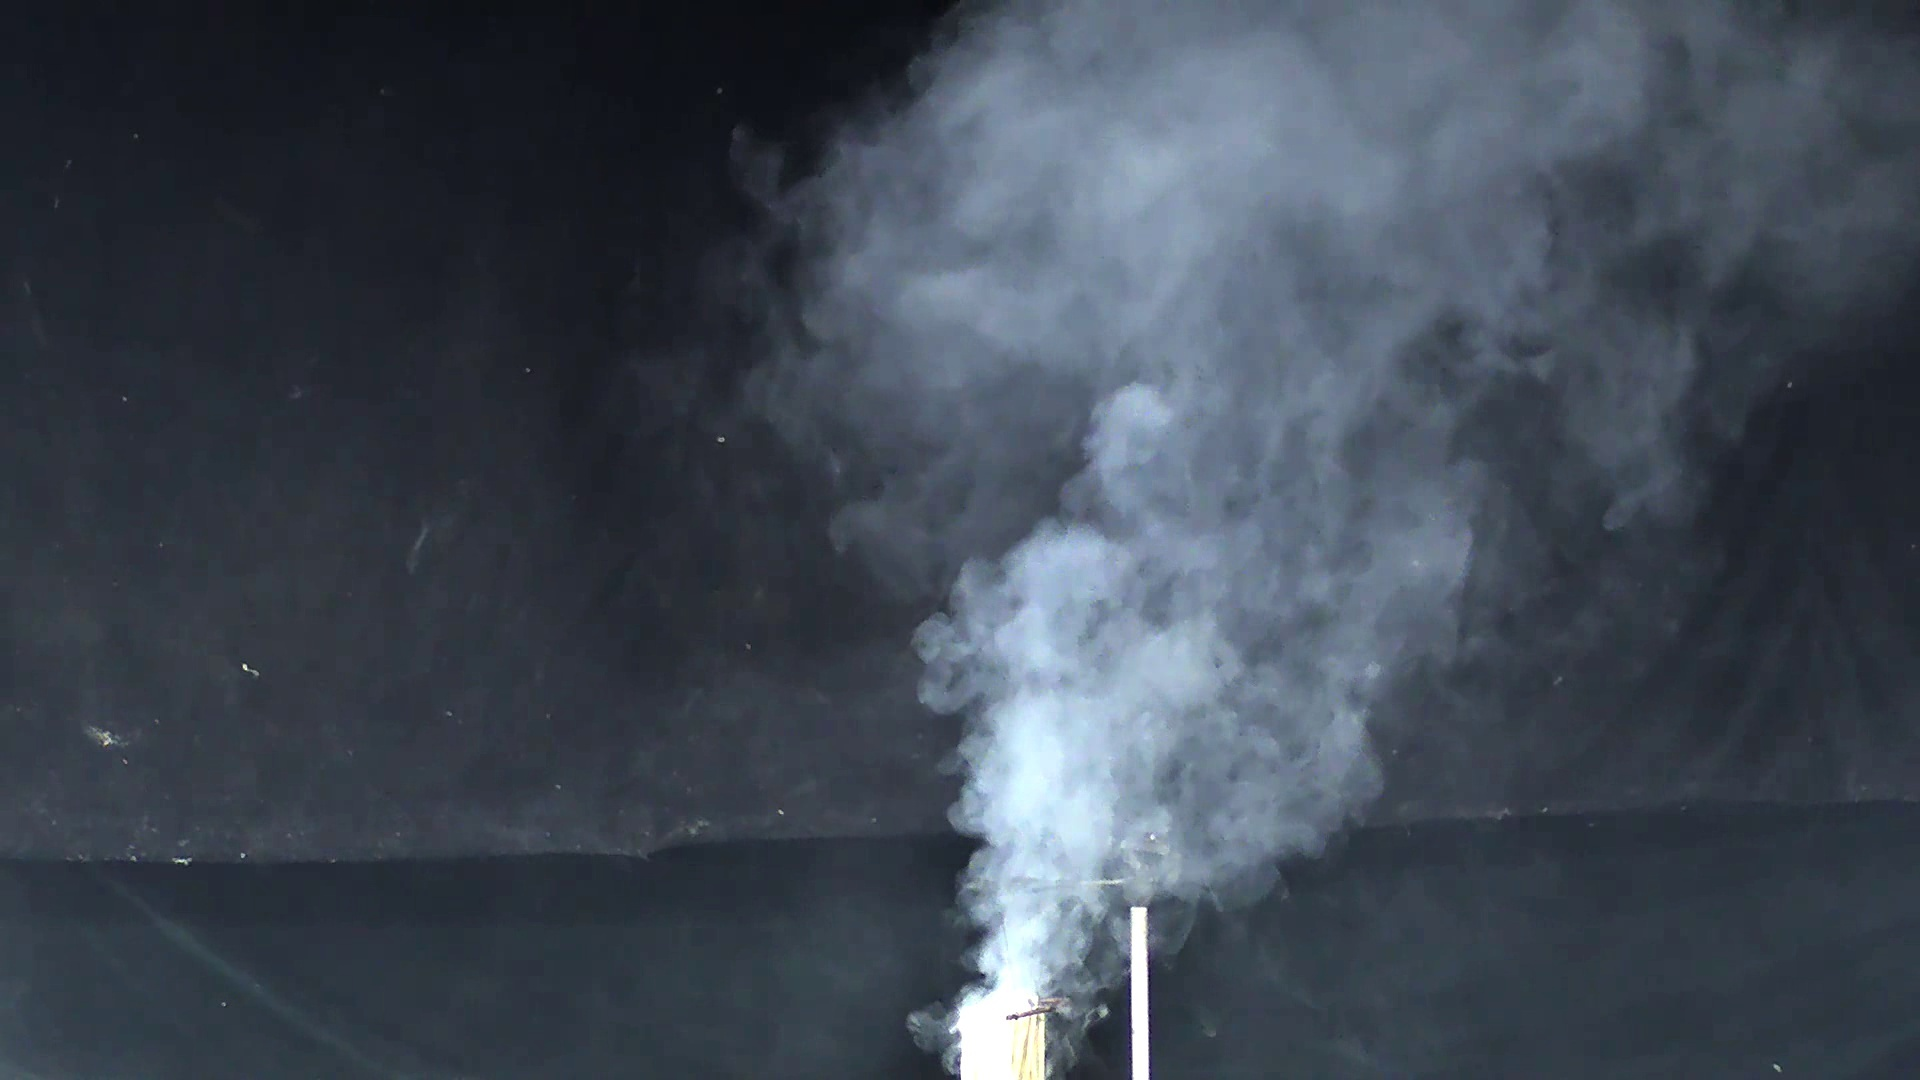smoke: (725, 13, 1797, 951)
